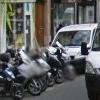Motorcycle: (14, 45, 70, 93)
